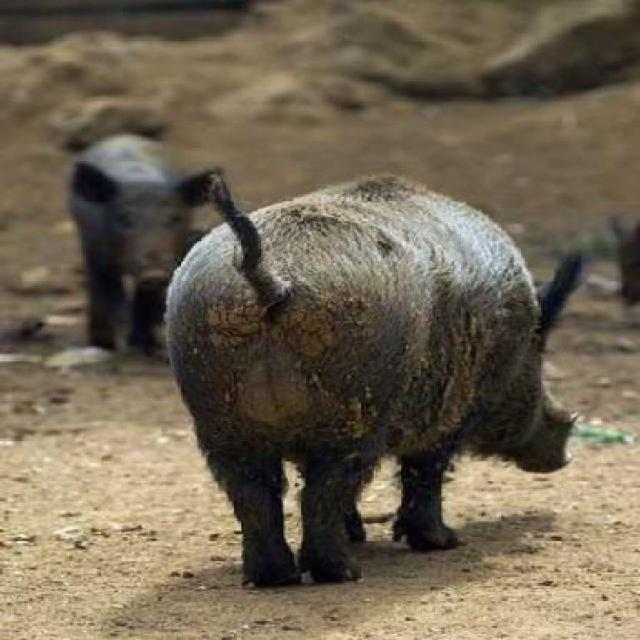pig: (120, 103, 625, 603)
